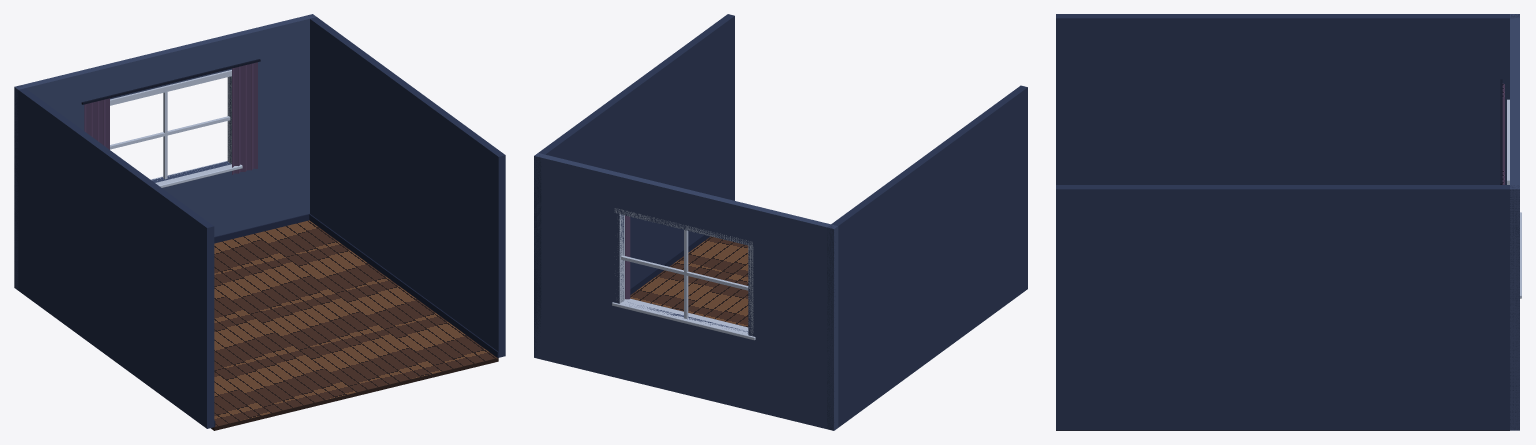
File: room.glb
3 renders of one model, left to right at view 1: azimuth 30°, elevation 25°; view 2: azimuth 150°, elevation 25°; view 3: azimuth 270°, elevation 25°, orthographic. The views are drawn at different scales.
Parts seen in each view (by area): view 1: room_shell; view 2: room_shell; view 3: room_shell.
Part boxes in pixels (x1,y1,x2,y2): room_shell: (14,14,505,430); room_shell: (534,14,1027,430); room_shell: (1056,14,1521,430).
Bounding box in the file's own units: 4.2 × 2.75 × 4.72.
2 materials, 2 textured.
